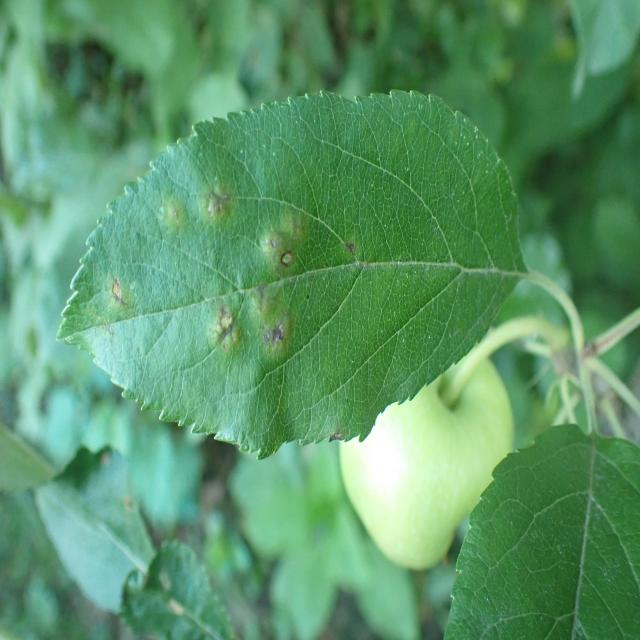scab: (256, 192, 316, 290), (193, 160, 236, 244), (207, 284, 250, 367), (256, 290, 301, 364), (106, 255, 146, 329), (151, 171, 187, 241), (333, 228, 369, 265)
